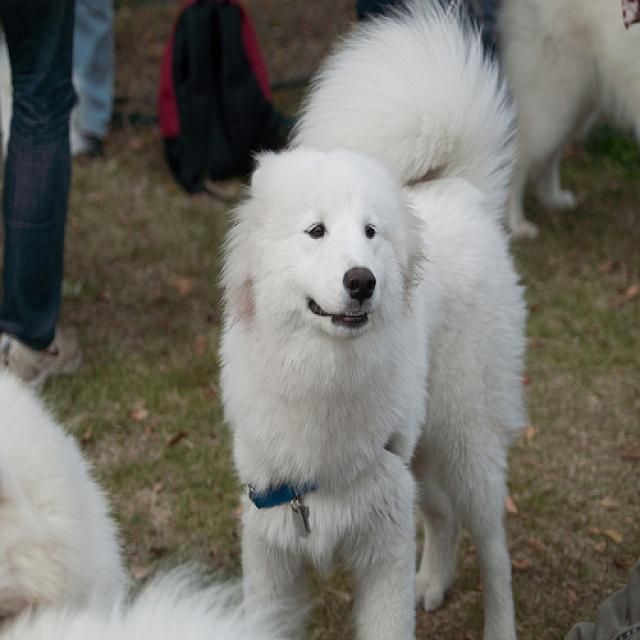dog-samoyed: (212, 2, 535, 637)
